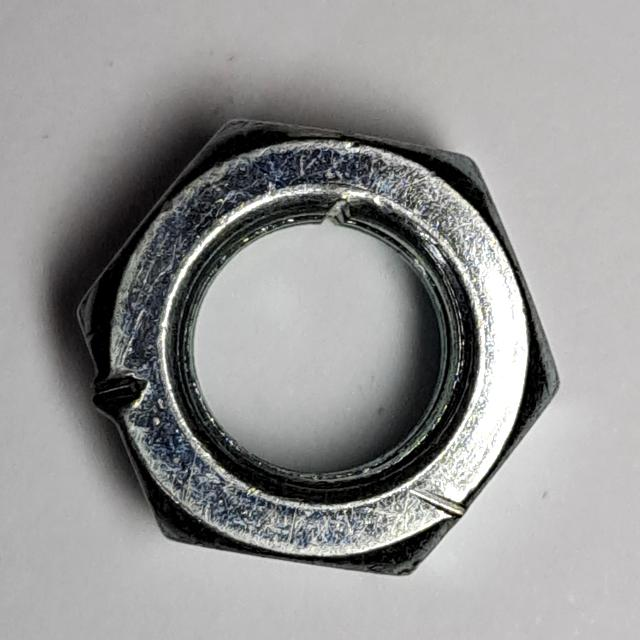Scratches: (66, 104, 566, 586)
